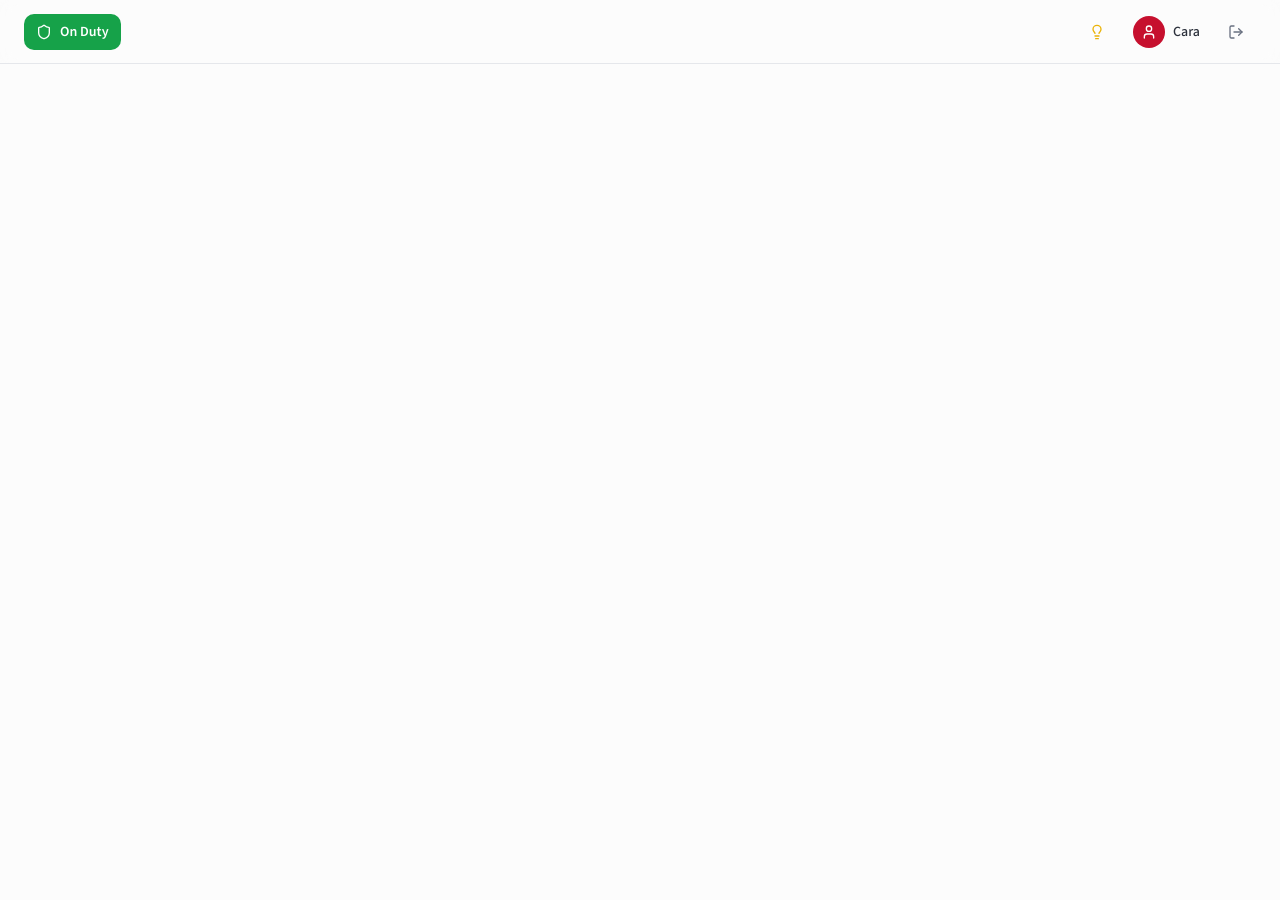
Test: logging out while on duty › WARNS instead of signing straight out, and touches nothing yet
Expected: the text "Cara" is shown, [1173, 22, 1200, 42]
Click the button titled "Log Out" at (1236, 32), box [1216, 12, 1256, 52]
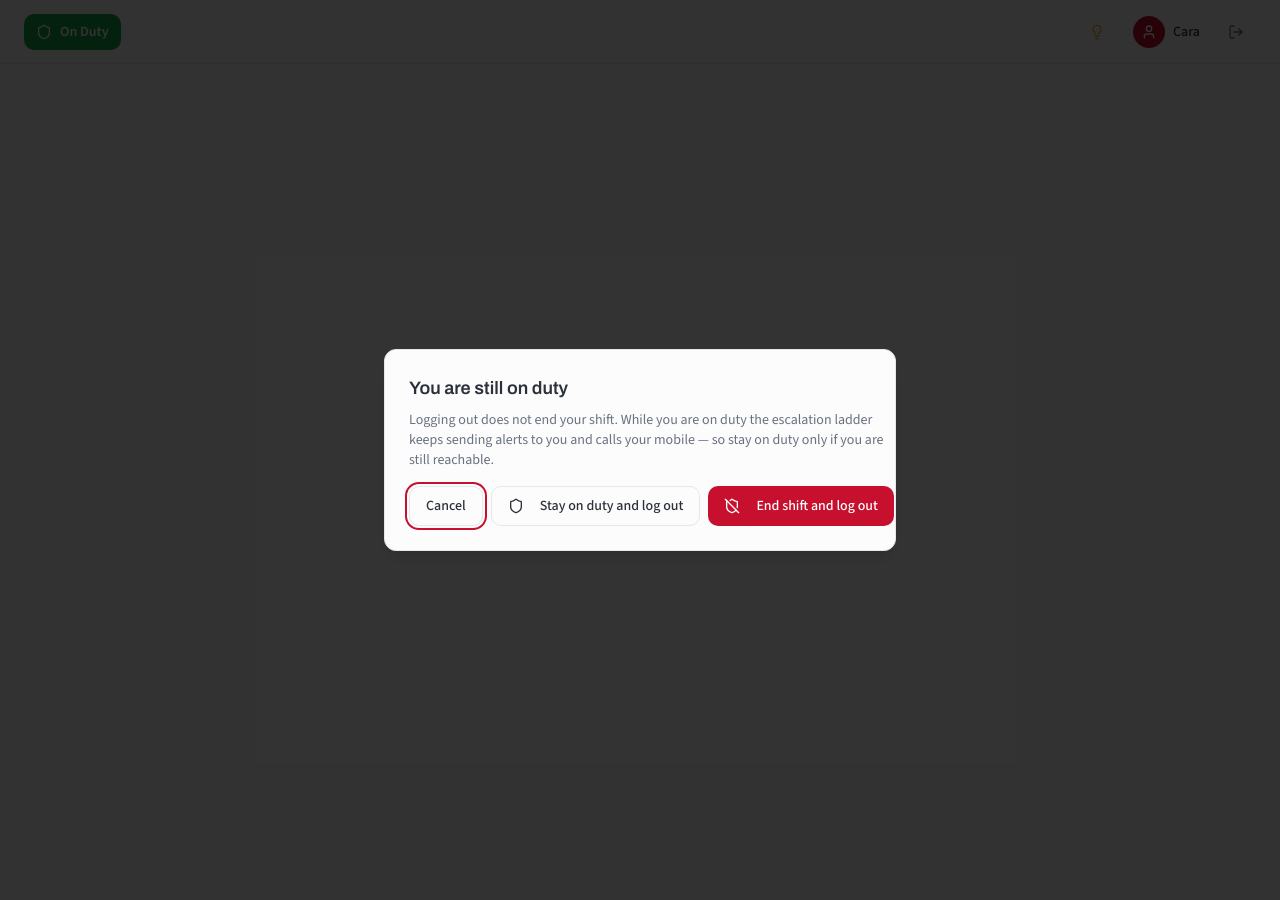
Result: the dialog with test id "duty-logout-warning" is shown at [384, 349, 896, 551]
